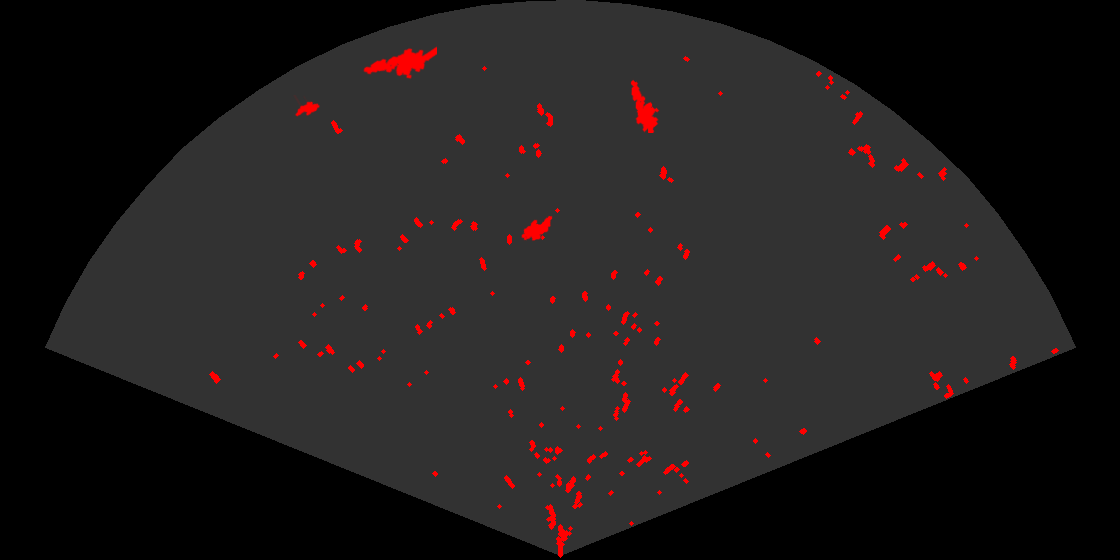AUV: (520, 214, 554, 243), (292, 95, 321, 118)
frogman: (362, 45, 437, 81), (629, 78, 661, 133)
